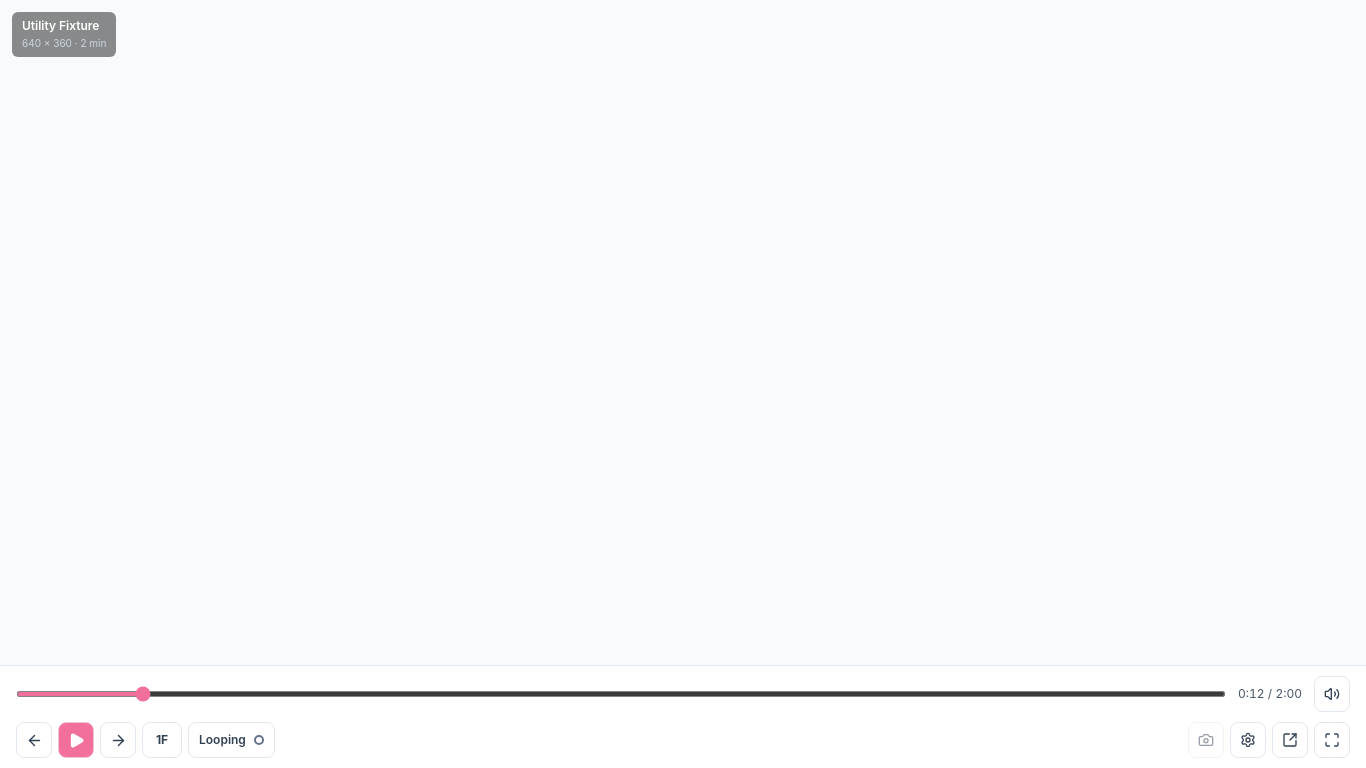
Test case: VideoPlayerPrototype › routes Shortcuts to its separate utility window without retaining the popover
The width and height of the screenshot is (1366, 768).
Click the button named "Player settings".
click(1248, 740)  # box [1230,722,1266,758]
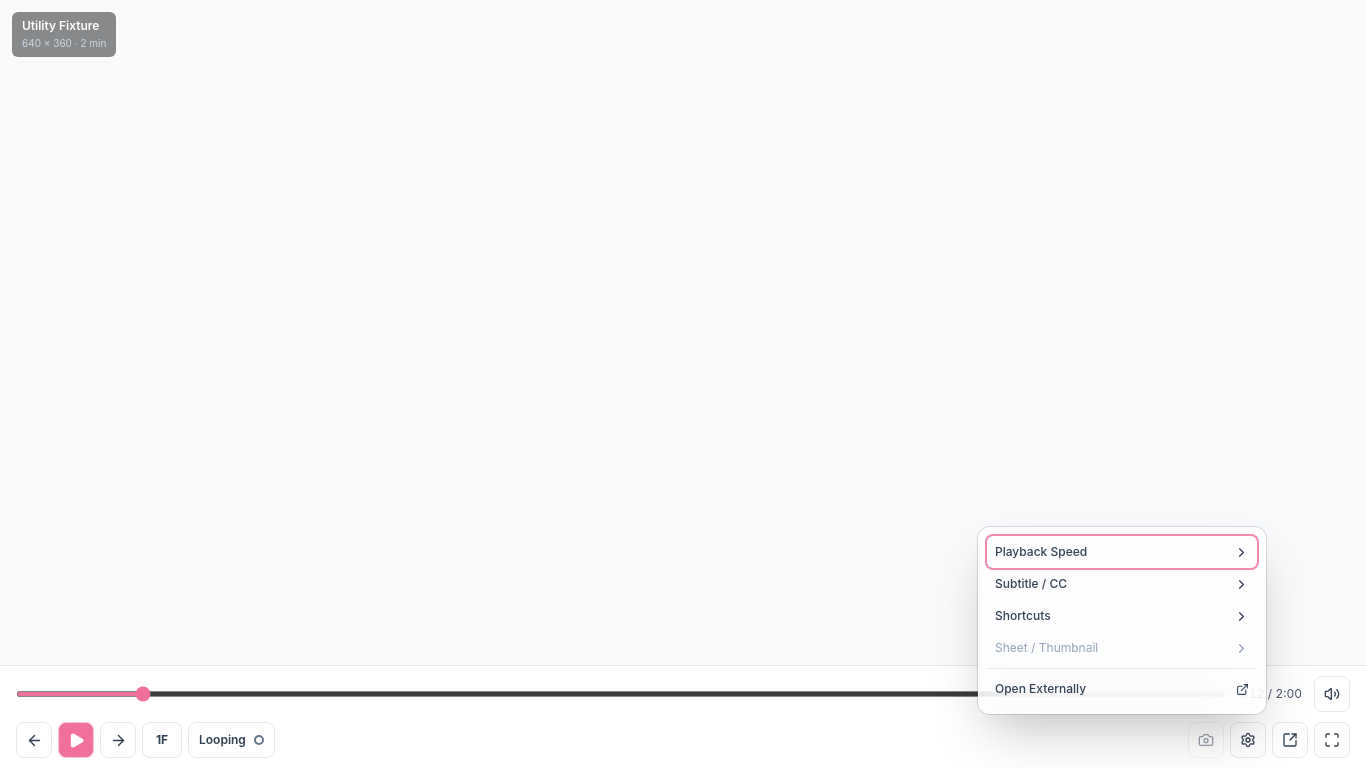
Click the menu item "Shortcuts".
click(1023, 616)  # box [987,600,1257,632]
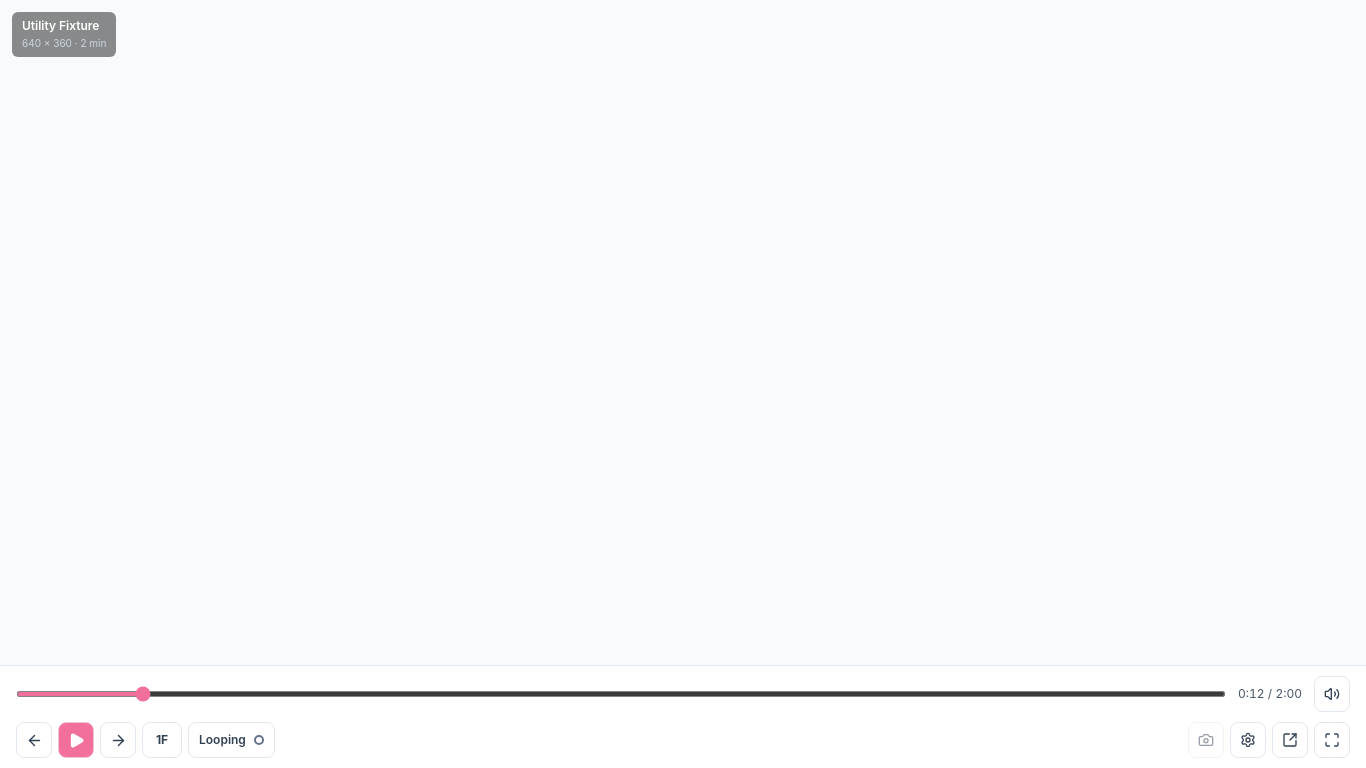
Expected: the menu is gone
